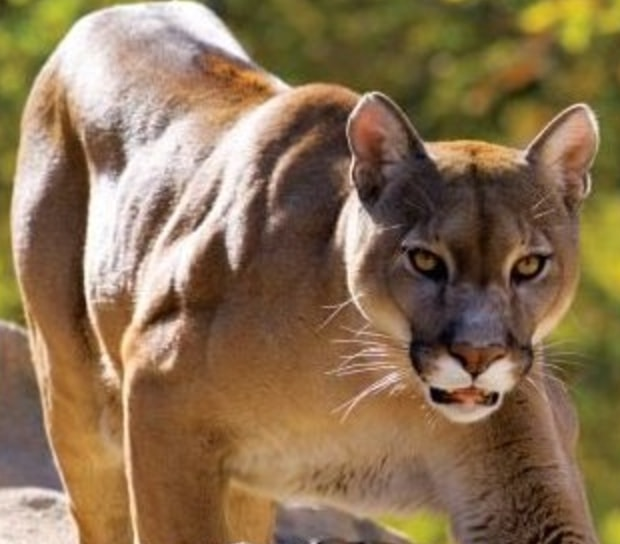Mountain Lion: (14, 11, 596, 540)
